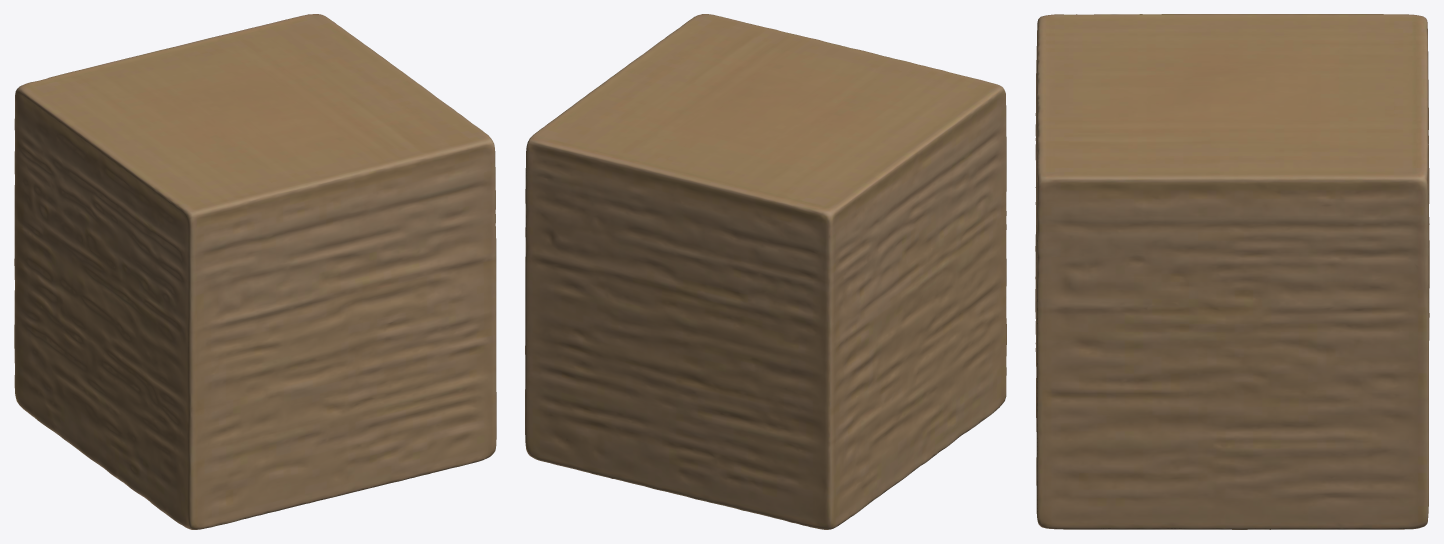
The model's file is 2ef7a4a1c80d_a_wooden_block__3d_.obj.
The picture shows the model from 3 angles, left to right: view 1: azimuth 30°, elevation 25°; view 2: azimuth 150°, elevation 25°; view 3: azimuth 270°, elevation 25°; orthographic projection. The views are drawn at different scales.
Parts seen in each view (by area): view 1: high_poly; view 2: high_poly; view 3: high_poly.
Part boxes in pixels (box(x1,y1,x2,y2)): high_poly: box(14, 14, 496, 529); high_poly: box(525, 14, 1006, 529); high_poly: box(1035, 14, 1429, 529).
Size of the model in its own units: 0.9998 by 0.9977 by 1.
Materials: 1 (1 with a texture image).
